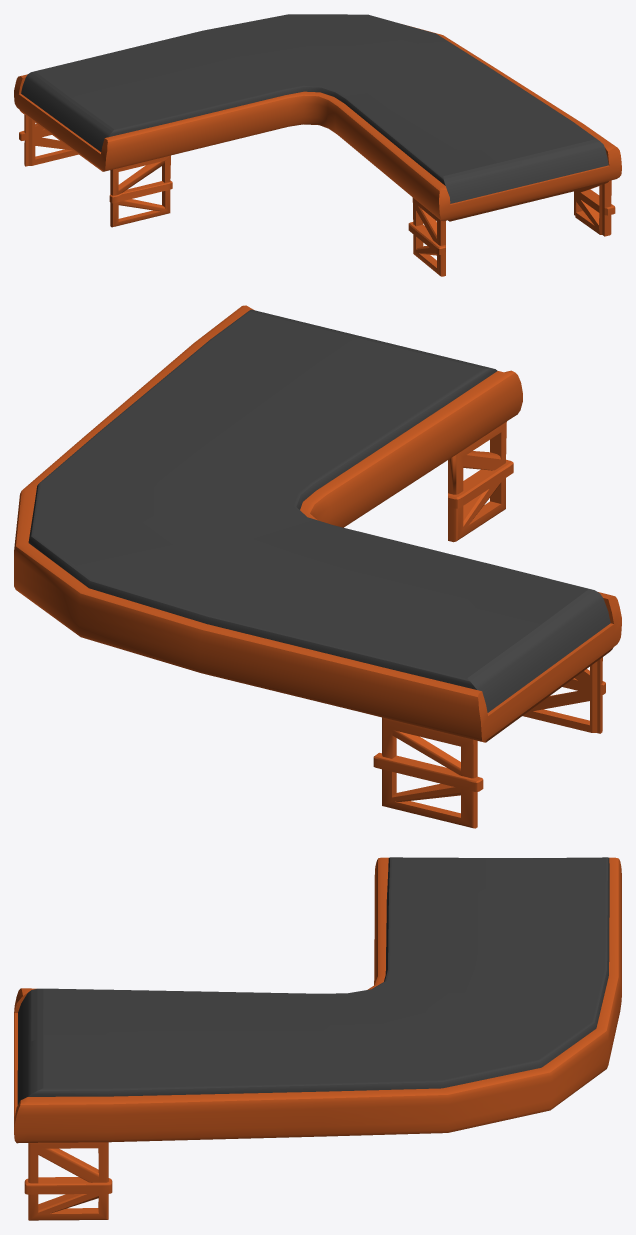
File: Conveyor_Corner.fbx
3 renders of one model, top to bottom at view 1: azimuth 30°, elevation 25°; view 2: azimuth 150°, elevation 25°; view 3: azimuth 270°, elevation 25°, orthographic. The views are drawn at different scales.
Visible parts, largest first — view 1: Conveyor_Corner; view 2: Conveyor_Corner; view 3: Conveyor_Corner.
Boxes of the visible parts, x1=… form: Conveyor_Corner: x1=14, y1=14, x2=621, y2=276; Conveyor_Corner: x1=14, y1=305, x2=621, y2=828; Conveyor_Corner: x1=14, y1=857, x2=621, y2=1220.
Size of the model in its own units: 7.08 by 1.67 by 7.29.
